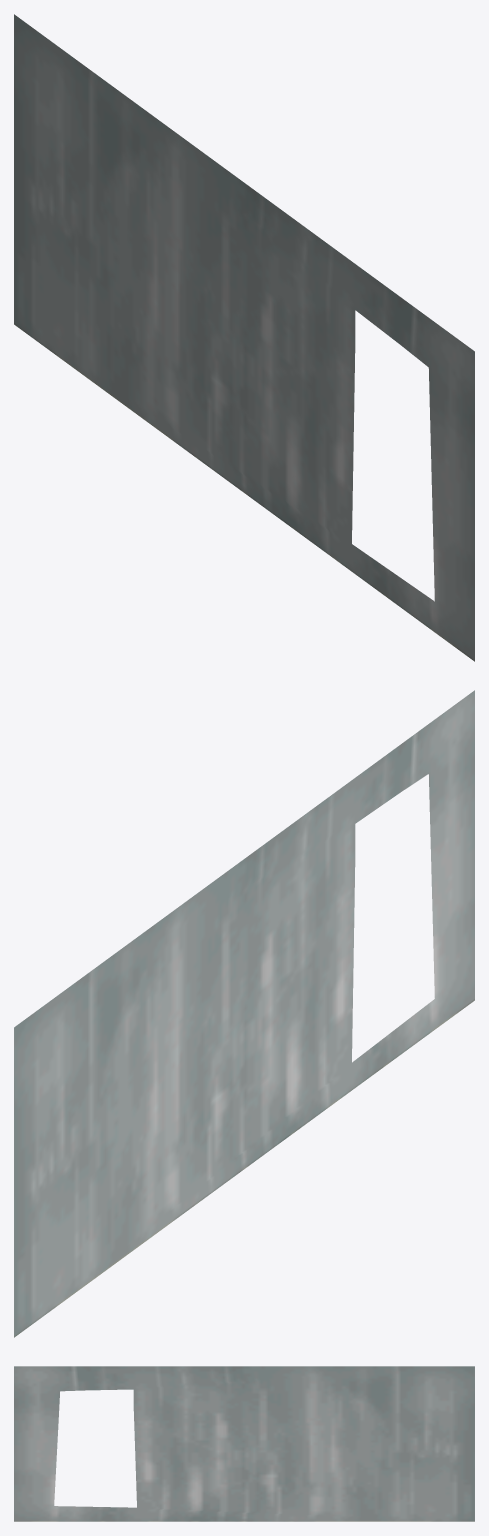
Rendered from W_AI1_oxxx_1341.glb.
3 views of the same model, one above another, from view 1: azimuth 30°, elevation 25°; view 2: azimuth 150°, elevation 25°; view 3: azimuth 270°, elevation 25° (orthographic). The views are drawn at different scales.
Parts seen in each view (by area): view 1: polySurfaceShape1266; view 2: polySurfaceShape1266; view 3: polySurfaceShape1266.
Boxes of the visible parts, bbox=[...] form: polySurfaceShape1266: bbox=[14, 14, 474, 661]; polySurfaceShape1266: bbox=[14, 690, 474, 1337]; polySurfaceShape1266: bbox=[14, 1366, 474, 1521].
Size of the model in its own units: 8.94e-08 by 0.3486 by 0.9385.
1 material, 1 textured.
